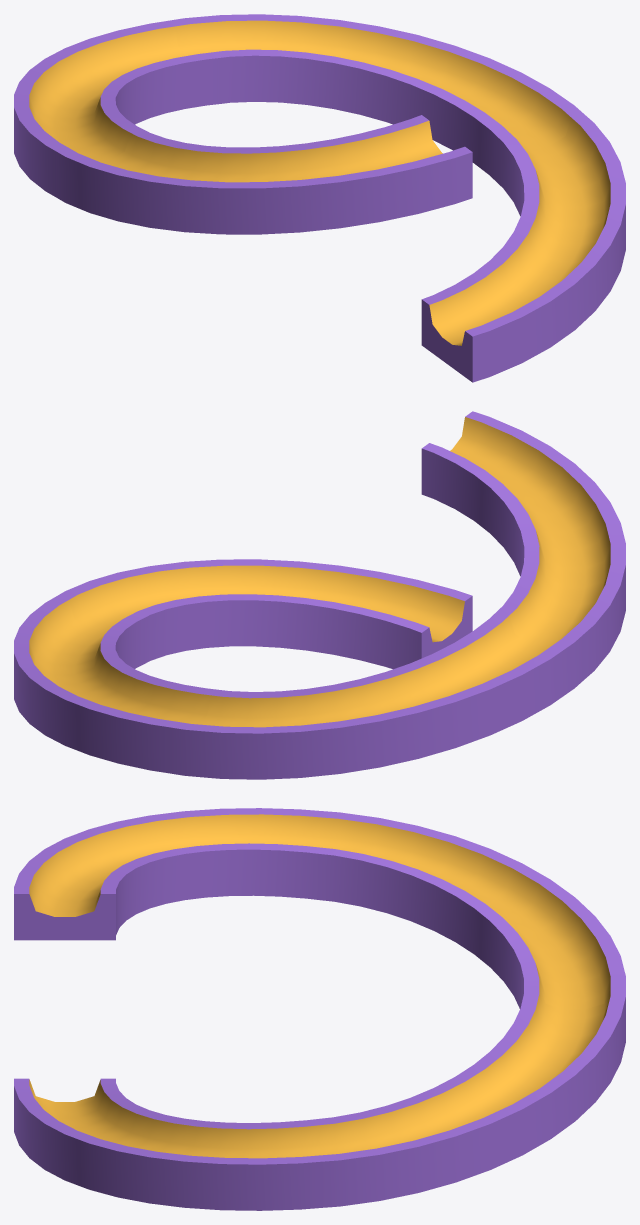
File: helix-large-left-col.glb
The picture shows the model from 3 angles, top to bottom: view 1: azimuth 30°, elevation 25°; view 2: azimuth 150°, elevation 25°; view 3: azimuth 270°, elevation 25°; orthographic projection.
Parts seen in each view (by area): view 1: helix-large-left-col; view 2: helix-large-left-col; view 3: helix-large-left-col.
Boxes of the visible parts, x1,y1,x2,y2 form: helix-large-left-col: (14,14,625,382); helix-large-left-col: (14,411,625,779); helix-large-left-col: (14,808,625,1210).
Bounding box in the file's own units: 6 × 2.5 × 6.
1 material, 1 textured.
